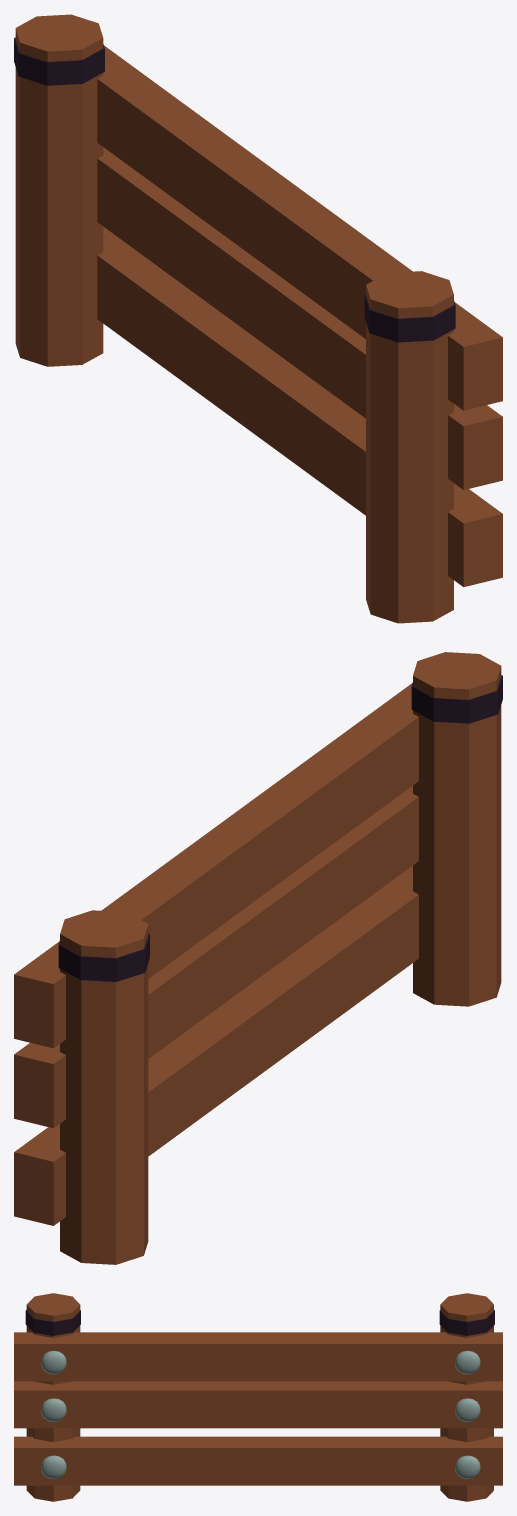
Rendered from Fence.fbx.
3 views of the same model, one above another, from view 1: azimuth 30°, elevation 25°; view 2: azimuth 150°, elevation 25°; view 3: azimuth 270°, elevation 25° (orthographic). The views are drawn at different scales.
Visible parts, largest first — view 1: Cube.005; view 2: Cube.005; view 3: Cube.005.
Part boxes in pixels (left/top/right/bottom): Cube.005: left=14, top=14, right=502, bottom=623; Cube.005: left=14, top=652, right=502, bottom=1264; Cube.005: left=14, top=1293, right=502, bottom=1501.
Bounding box in the file's own units: 172 × 466 × 1111.
